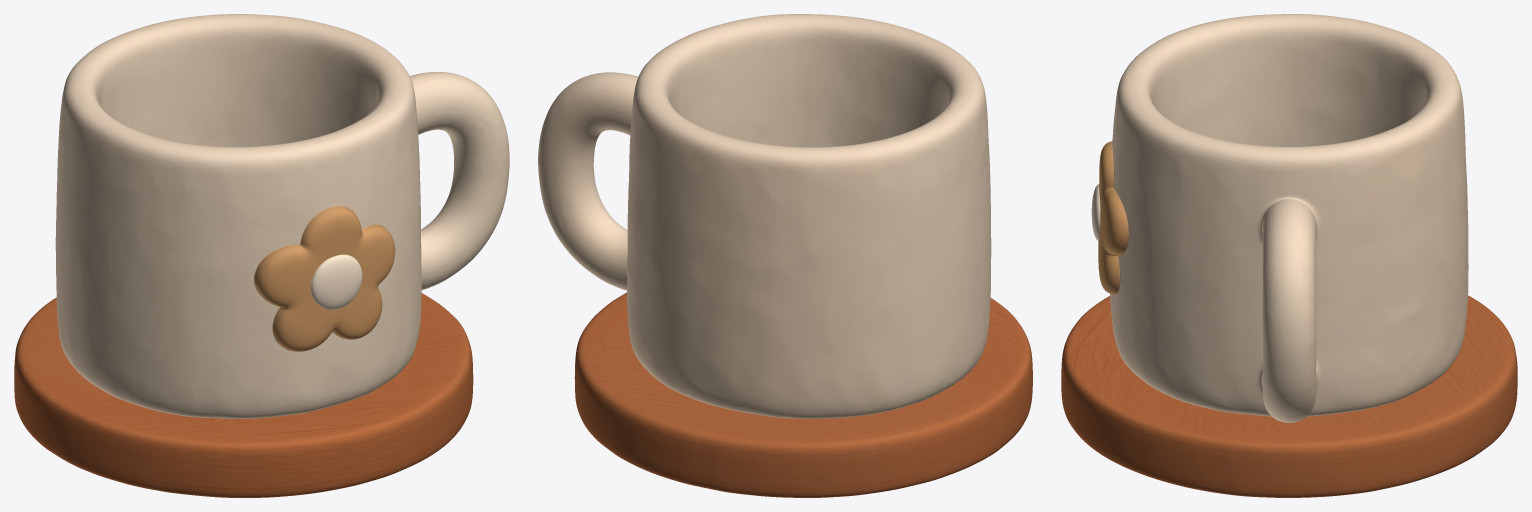
The model's file is mug.glb.
3 renders of one model, left to right at view 1: azimuth 30°, elevation 25°; view 2: azimuth 150°, elevation 25°; view 3: azimuth 270°, elevation 25°, orthographic.
Size of the model in its own units: 1.9 by 1.28 by 1.65.
Materials: 1 (1 with a texture image).
